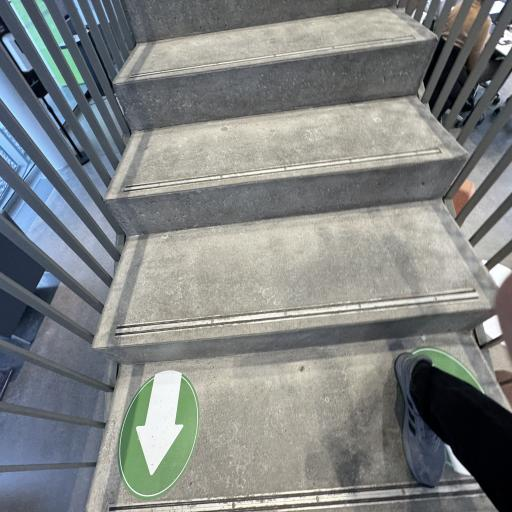Stairs: (86, 0, 506, 512), (86, 333, 506, 512), (93, 200, 496, 364), (105, 96, 467, 236), (113, 9, 437, 130), (123, 0, 396, 43)
